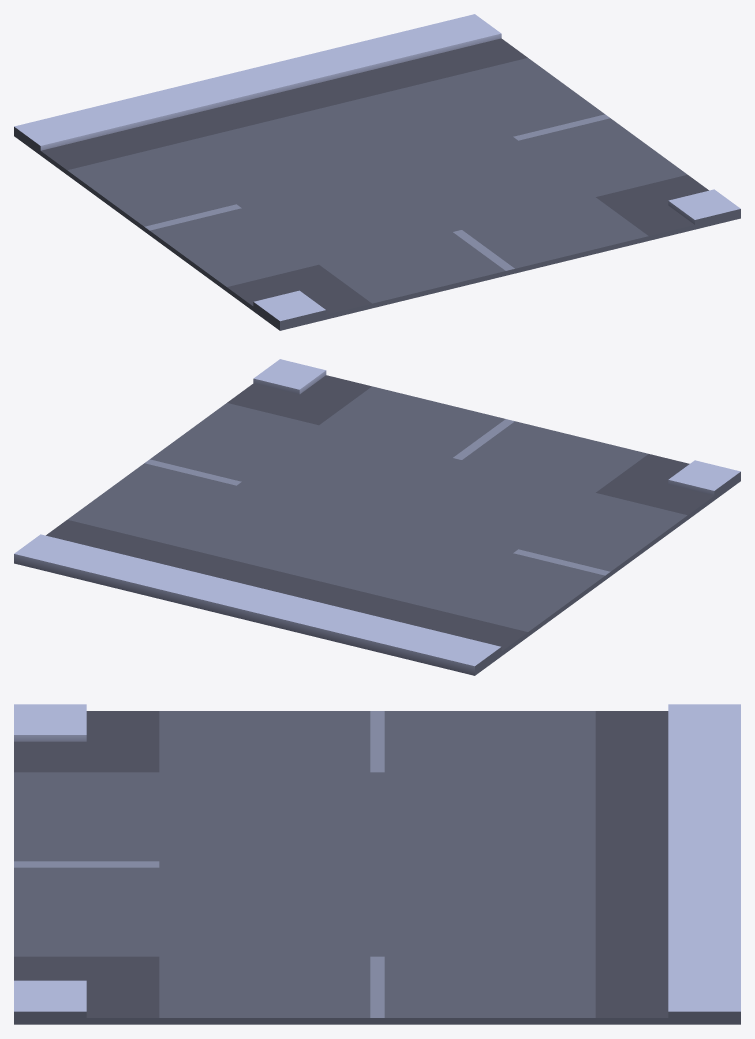
3 views of the same model, one above another, from view 1: azimuth 30°, elevation 25°; view 2: azimuth 150°, elevation 25°; view 3: azimuth 270°, elevation 25° (orthographic). The views are drawn at different scales.
Visible parts, largest first — view 1: road-intersection; view 2: road-intersection; view 3: road-intersection.
Boxes of the visible parts, left/top/right/bottom form: road-intersection: left=14, top=14, right=740, bottom=330; road-intersection: left=14, top=359, right=740, bottom=675; road-intersection: left=14, top=704, right=740, bottom=1024.
Bounding box in the file's own units: 10.68 × 0.2136 × 10.68.
Materials: 1 (1 with a texture image).
